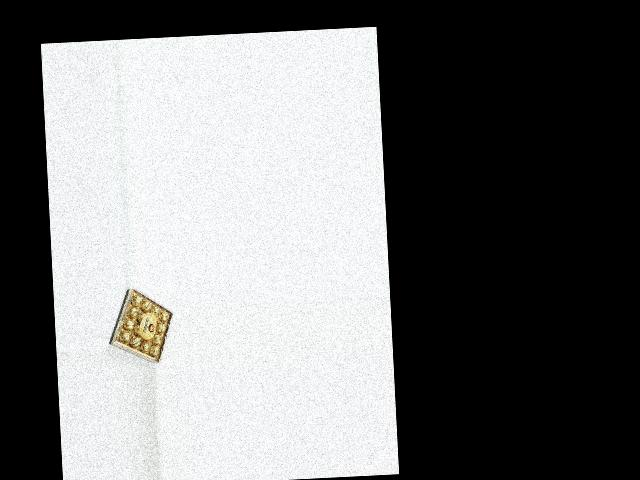chocolate: (104, 285, 177, 366)
